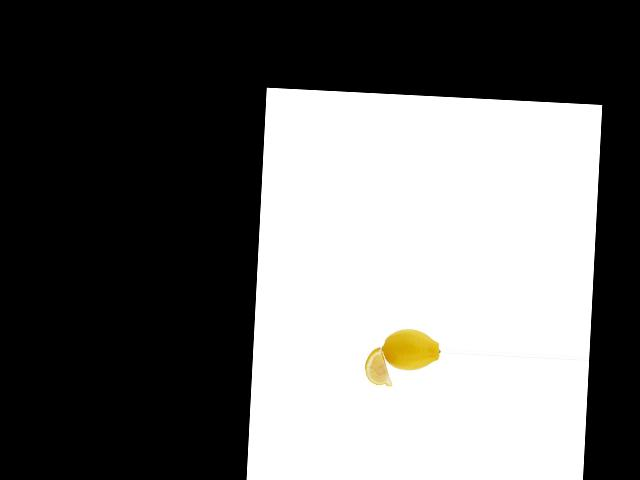lemon: (378, 325, 442, 374)
